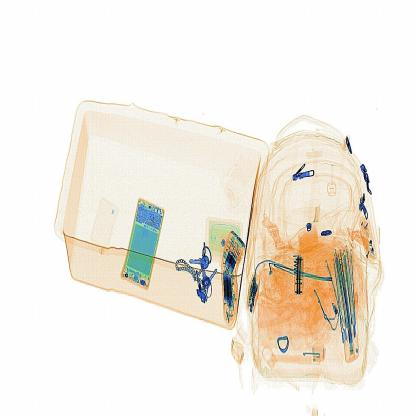scissors: (292, 252, 308, 300)
